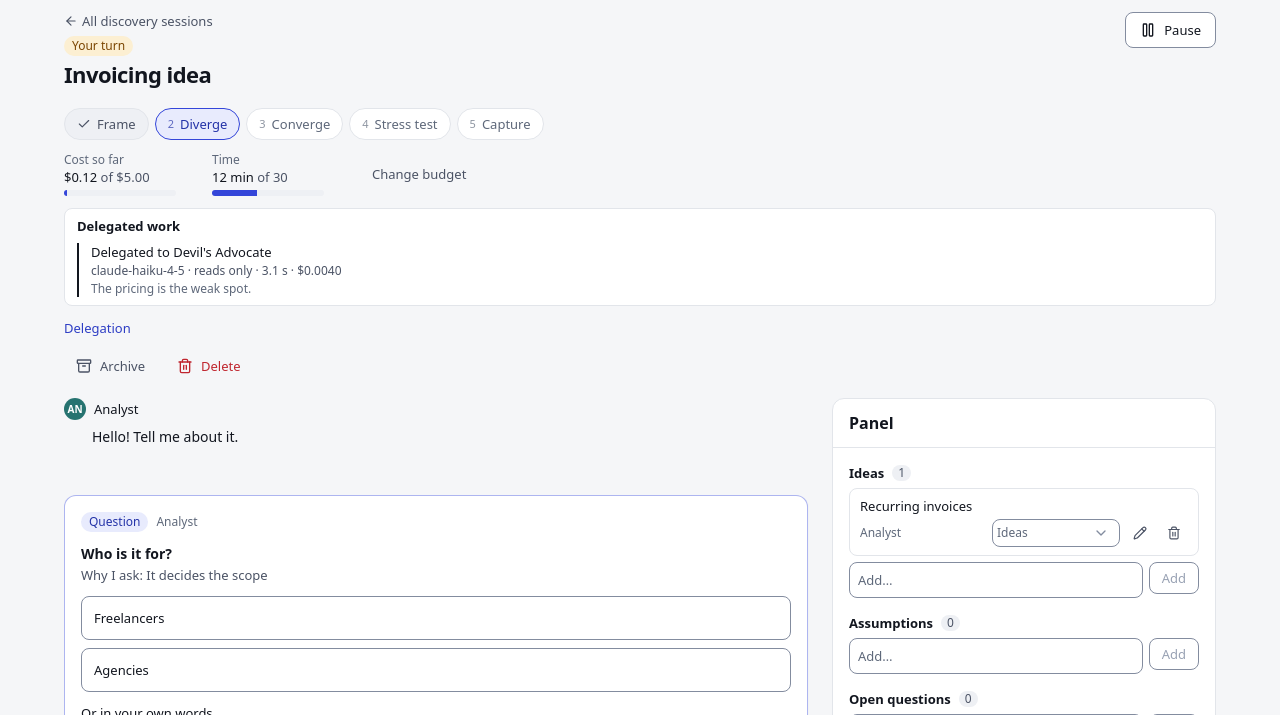
Discovery session page › shows what the facilitator delegated as sub-steps, and a Delegation control that is off until opened
Expected: the element with test id "delegation-steps" shows "Delegated to Devil's Advocate", [64, 208, 1216, 306]
Expected: the element with test id "delegation-steps" shows "claude-haiku-4-5 · reads only · 3.1 s · $0.0040", [64, 208, 1216, 306]
Click the button with test id "delegate-grants-toggle". click: {"x": 97, "y": 328}
box: [64, 319, 131, 337]
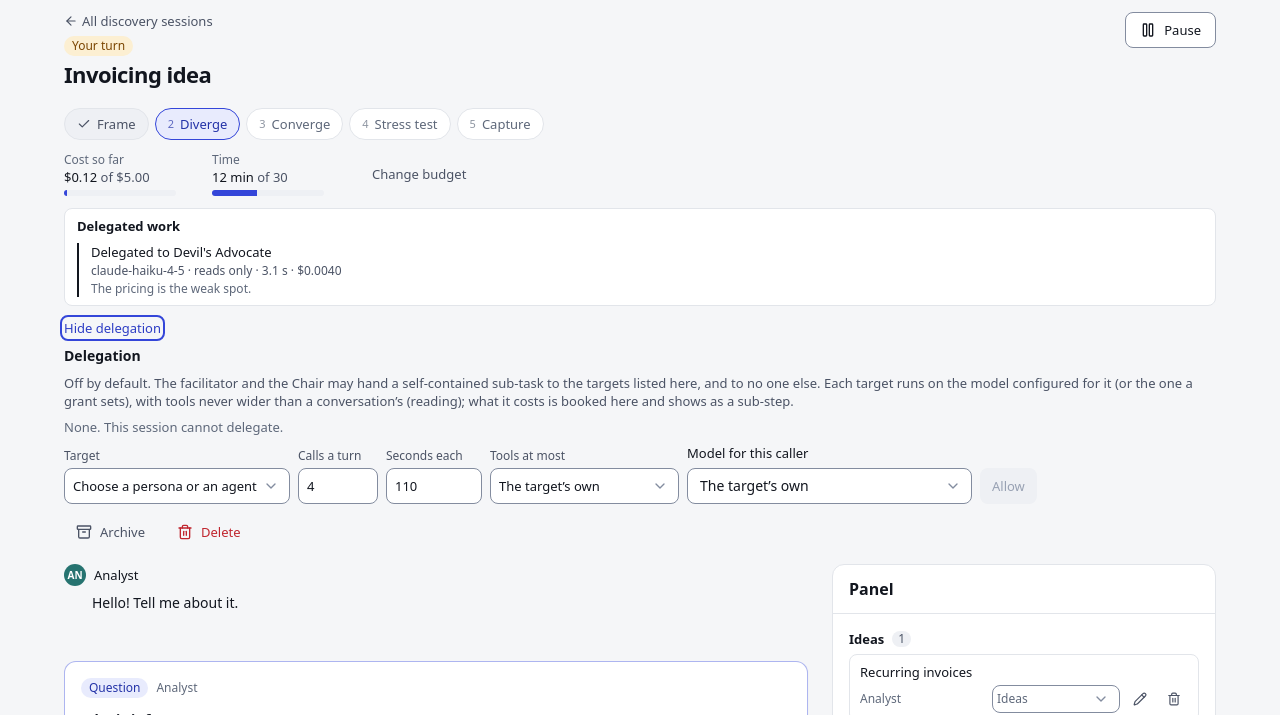
Expected: the text with test id "delegate-grants-none" shows "This session cannot delegate", [64, 418, 283, 436]
